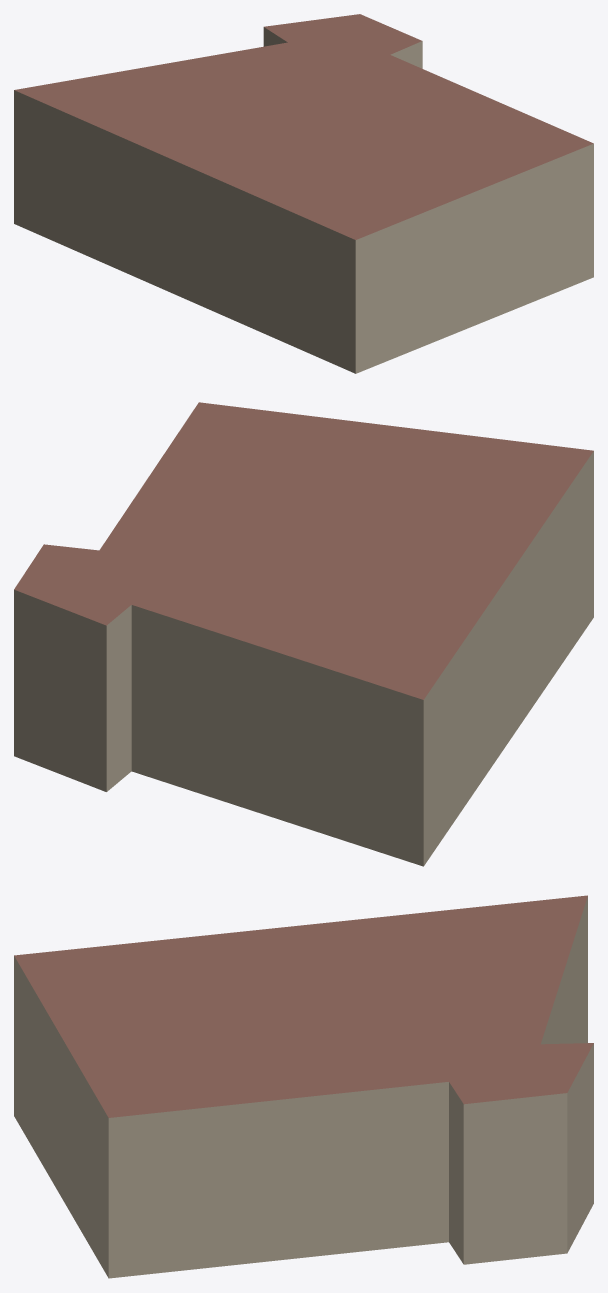
3 renders of one model, top to bottom at view 1: azimuth 30°, elevation 25°; view 2: azimuth 150°, elevation 25°; view 3: azimuth 270°, elevation 25°, orthographic. The views are drawn at different scales.
Visible parts, largest first — view 1: tuile; view 2: tuile; view 3: tuile.
Part boxes in pixels (box(x1,y1,x2,y2)): tuile: box(14, 14, 593, 373); tuile: box(14, 402, 593, 866); tuile: box(14, 895, 593, 1278).
Bounding box in the file's own units: 17.8 × 5.98 × 19.6.
